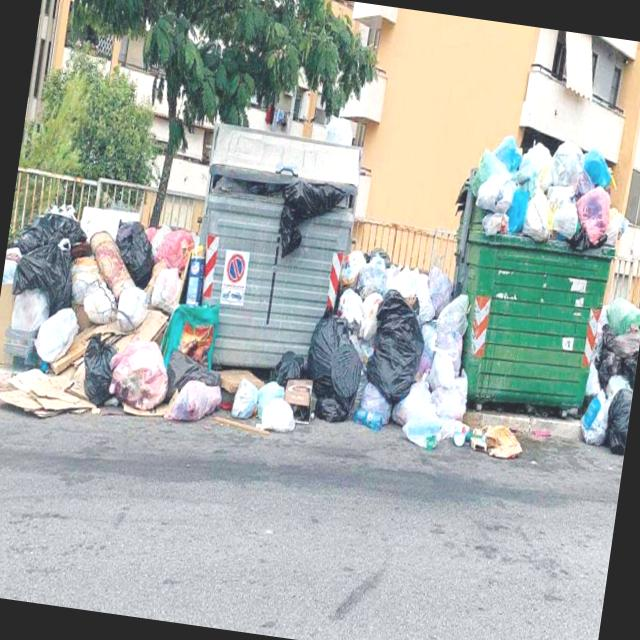garbage: (0, 73, 640, 489)
